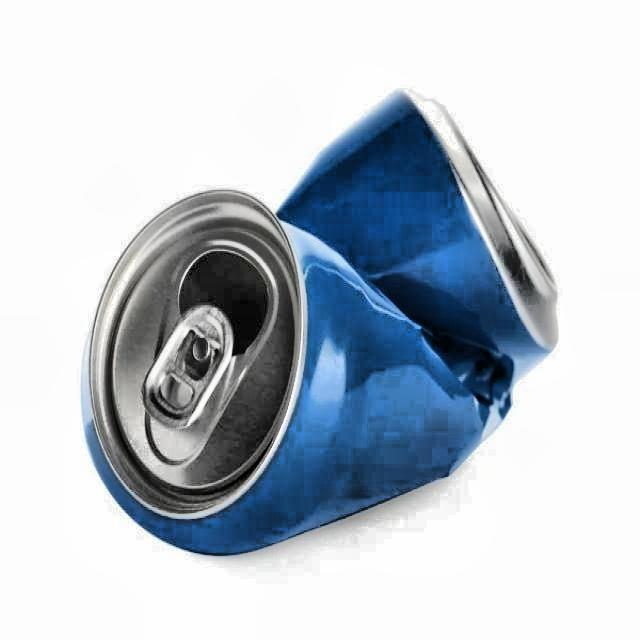metal: (78, 90, 558, 557)
